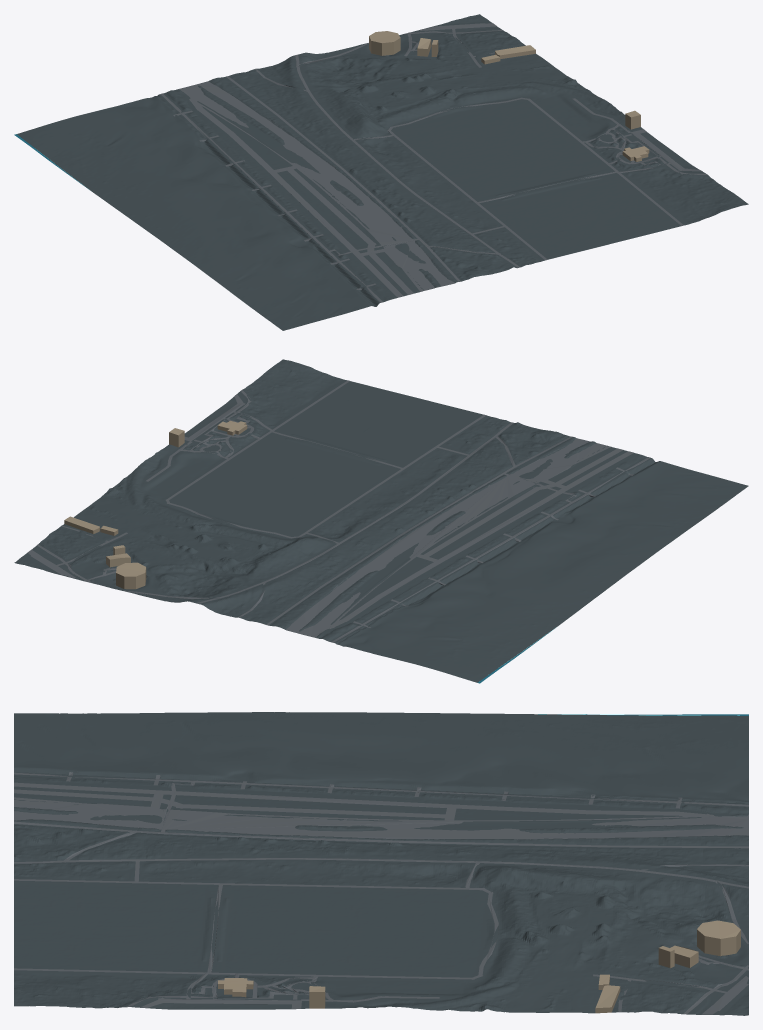
Rendered from epsg26910-1414-10885.lod0.glb.
3 renders of one model, top to bottom at view 1: azimuth 30°, elevation 25°; view 2: azimuth 150°, elevation 25°; view 3: azimuth 270°, elevation 25°, orthographic. The views are drawn at different scales.
Visible parts, largest first — view 1: epsg26910-1414-10885-lod0; view 2: epsg26910-1414-10885-lod0; view 3: epsg26910-1414-10885-lod0.
Boxes of the visible parts, x1,y1,x2,y2 form: epsg26910-1414-10885-lod0: (14, 14, 748, 330); epsg26910-1414-10885-lod0: (14, 359, 748, 683); epsg26910-1414-10885-lod0: (14, 712, 748, 1015).
Size of the model in its own units: 384 by 19.22 by 384.
